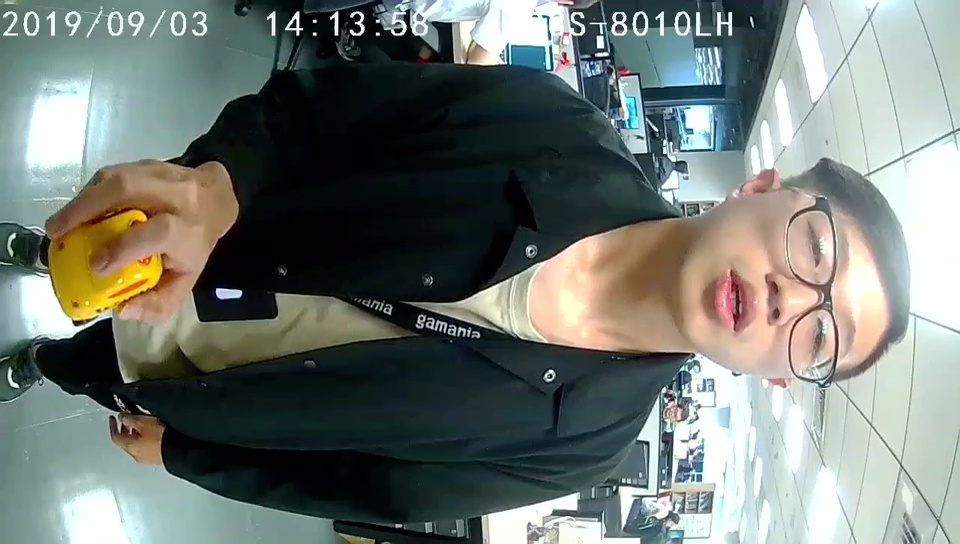car: (49, 210, 161, 318)
